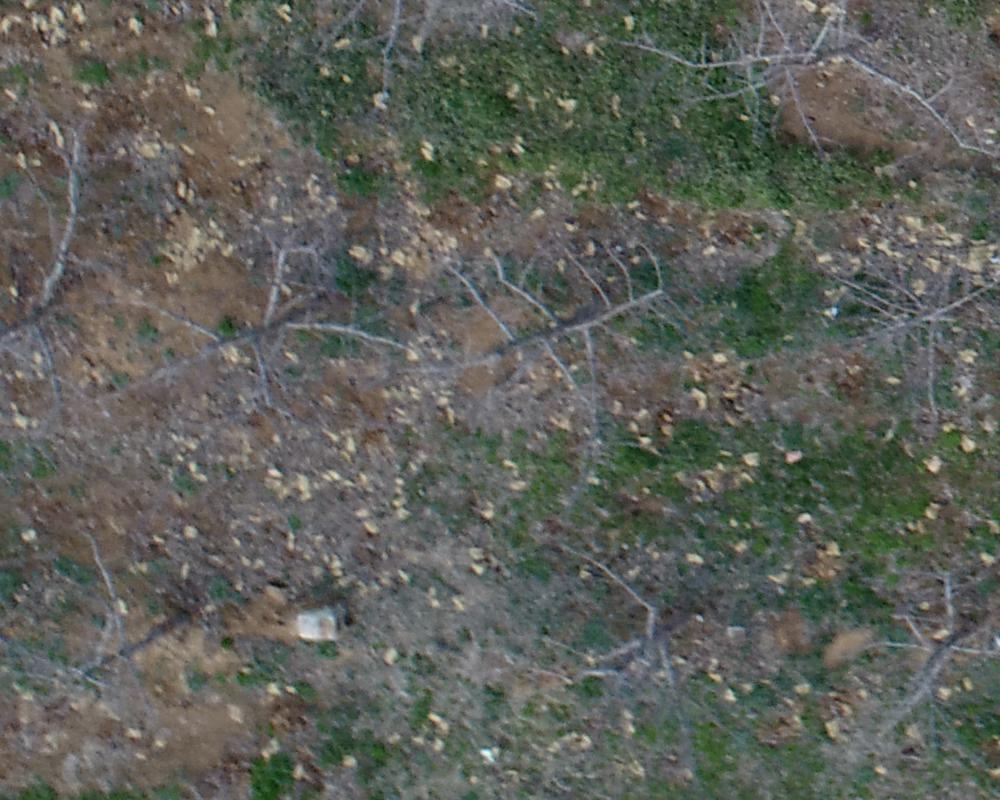apple: (598, 10, 990, 178), (410, 230, 687, 444), (110, 231, 391, 440), (540, 540, 736, 765), (15, 546, 245, 735), (807, 221, 990, 430), (10, 124, 123, 438), (856, 561, 990, 768)
